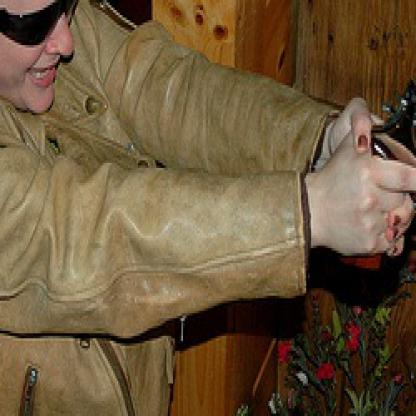gun: (343, 92, 414, 276)
